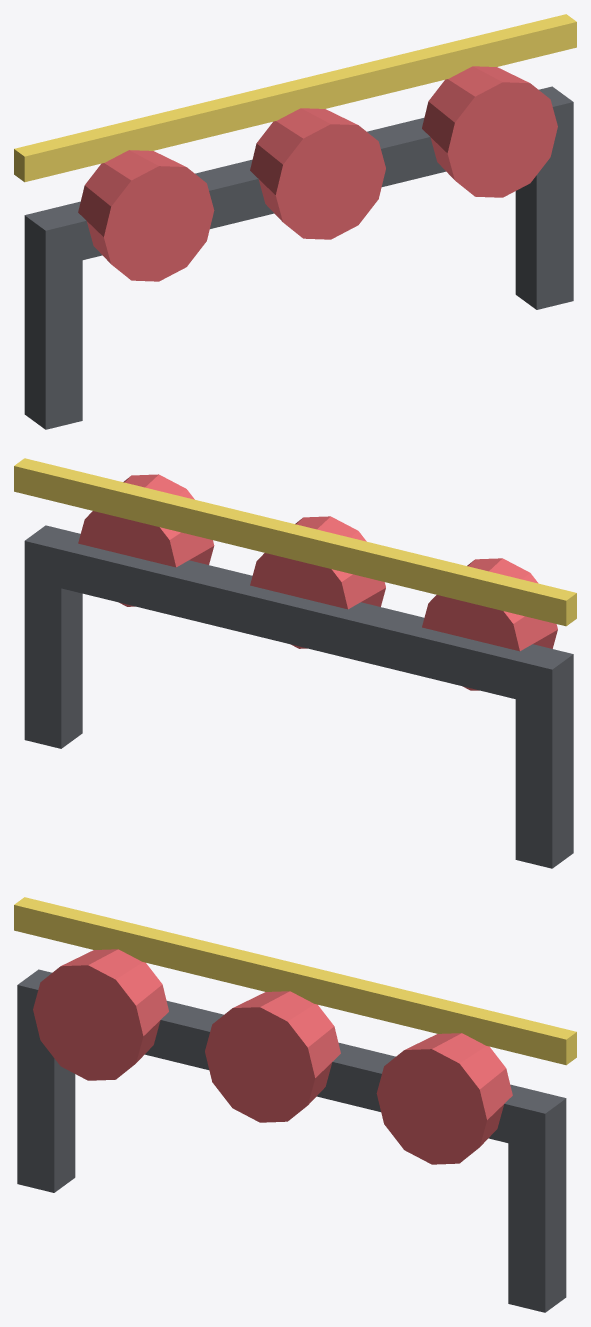
Rendered from lawn-mowing-simulator-kit-headlight-bar-c368eb16__27365.glb.
3 views of the same model, one above another, from view 1: azimuth 30°, elevation 25°; view 2: azimuth 150°, elevation 25°; view 3: azimuth 330°, elevation 25° (orthographic).
Visible parts, largest first — view 1: headlight-bar; view 2: headlight-bar; view 3: headlight-bar.
Part boxes in pixels (x1,y1,x2,y2): headlight-bar: (14, 14, 576, 429); headlight-bar: (14, 458, 576, 868); headlight-bar: (14, 897, 576, 1312).
Size of the model in its own units: 0.9 by 0.42 by 0.12.
